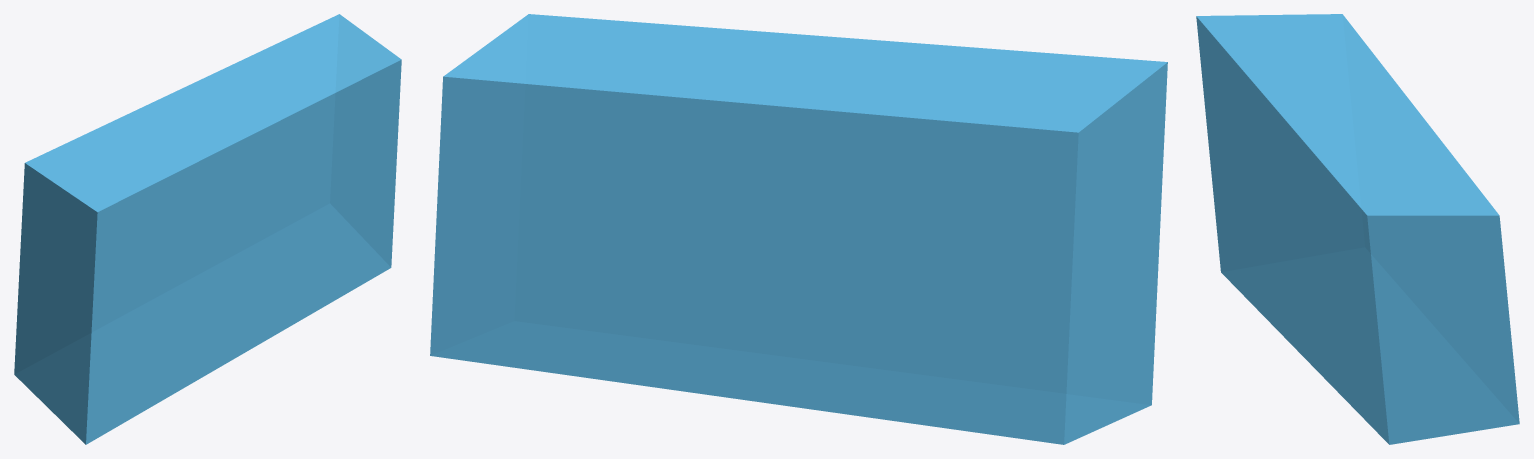
File: Event_420604493_HErechit_0.fbx
3 renders of one model, left to right at view 1: azimuth 30°, elevation 25°; view 2: azimuth 150°, elevation 25°; view 3: azimuth 270°, elevation 25°, orthographic. The views are drawn at different scales.
Parts seen in each view (by area): view 1: Model; view 2: Model; view 3: Model.
Boxes of the visible parts, bbox=[...] form: Model: bbox=[14, 14, 401, 444]; Model: bbox=[430, 14, 1167, 444]; Model: bbox=[1196, 14, 1519, 444].
Size of the model in its own units: 1.21 by 0.7148 by 0.8176.
